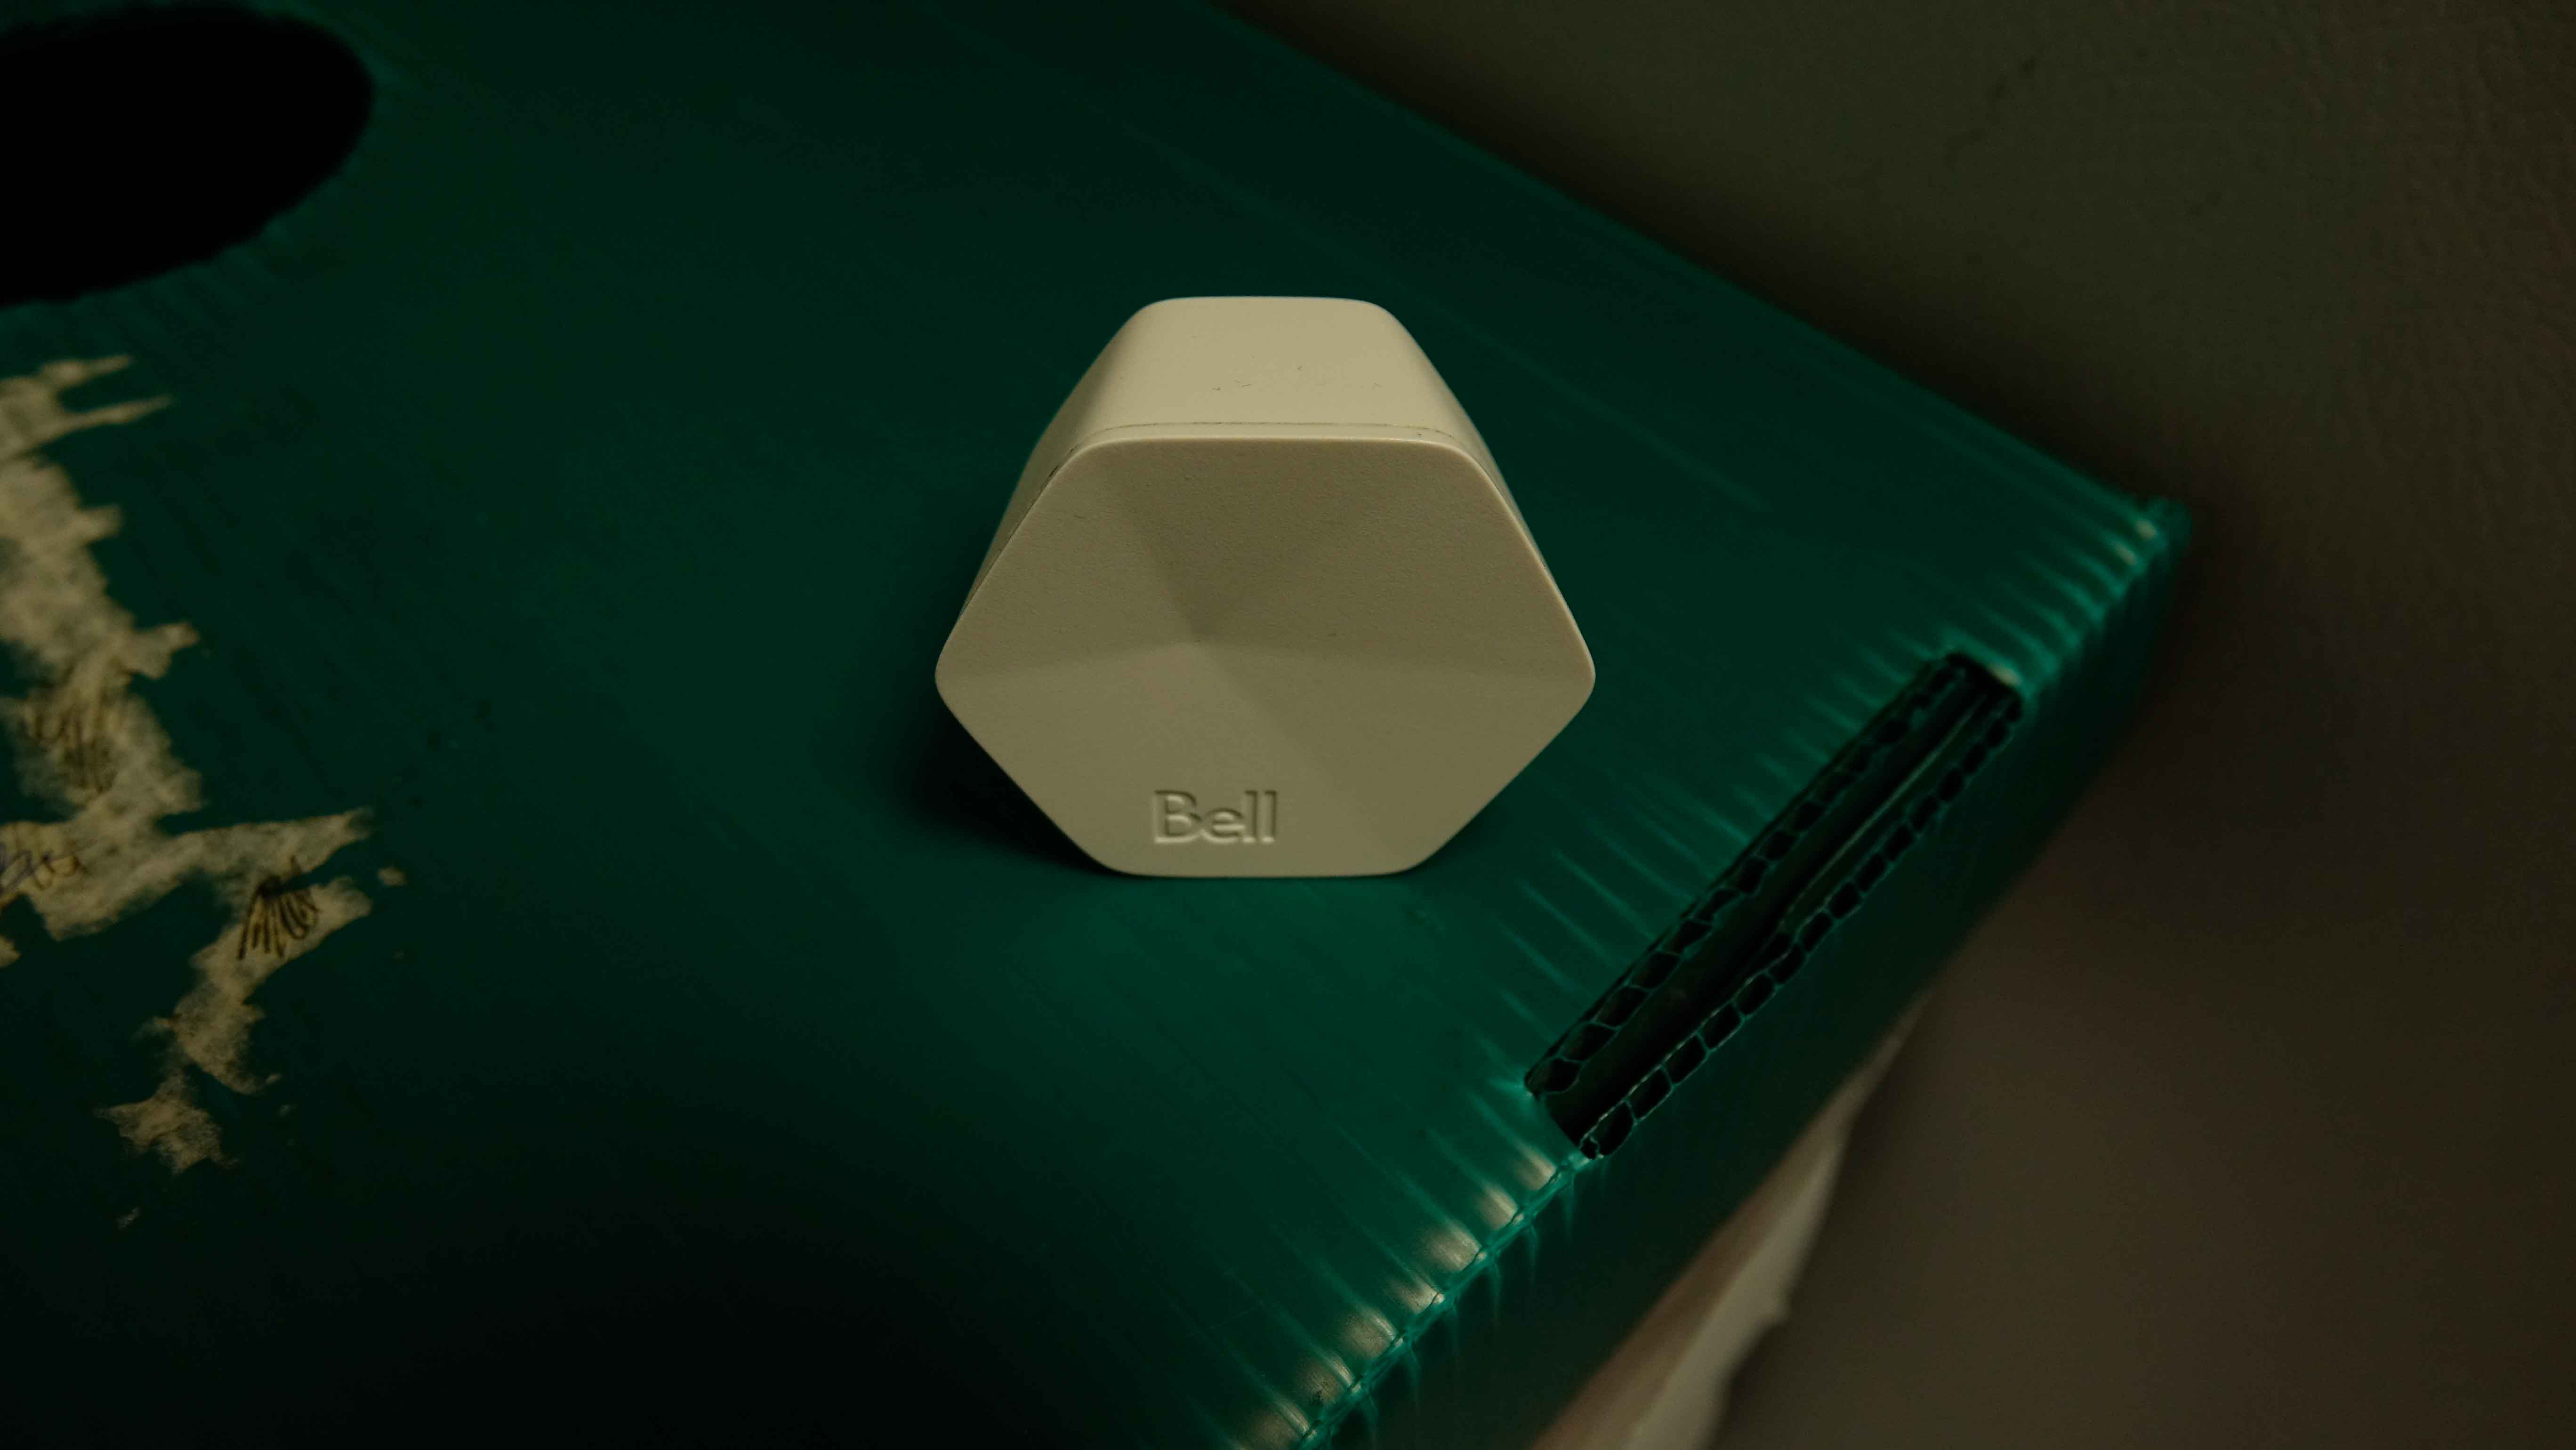pod: (920, 292, 1612, 891)
